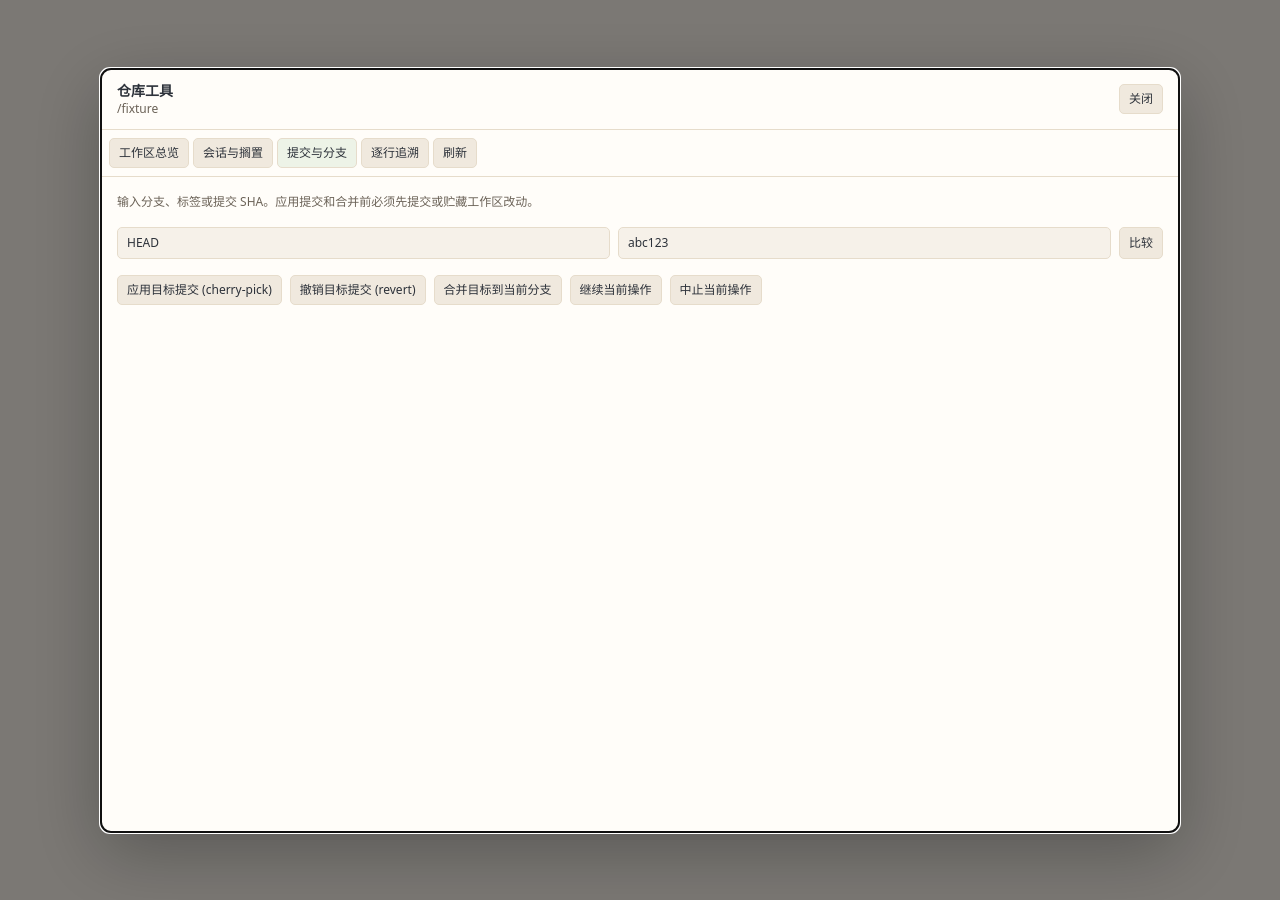
Test: workspace workflows › does not execute history operations on cancel and displays backend errors
The image size is (1280, 900).
Click the button "撤销目标提交 (revert)" at (358, 290), box [290,274,426,304]
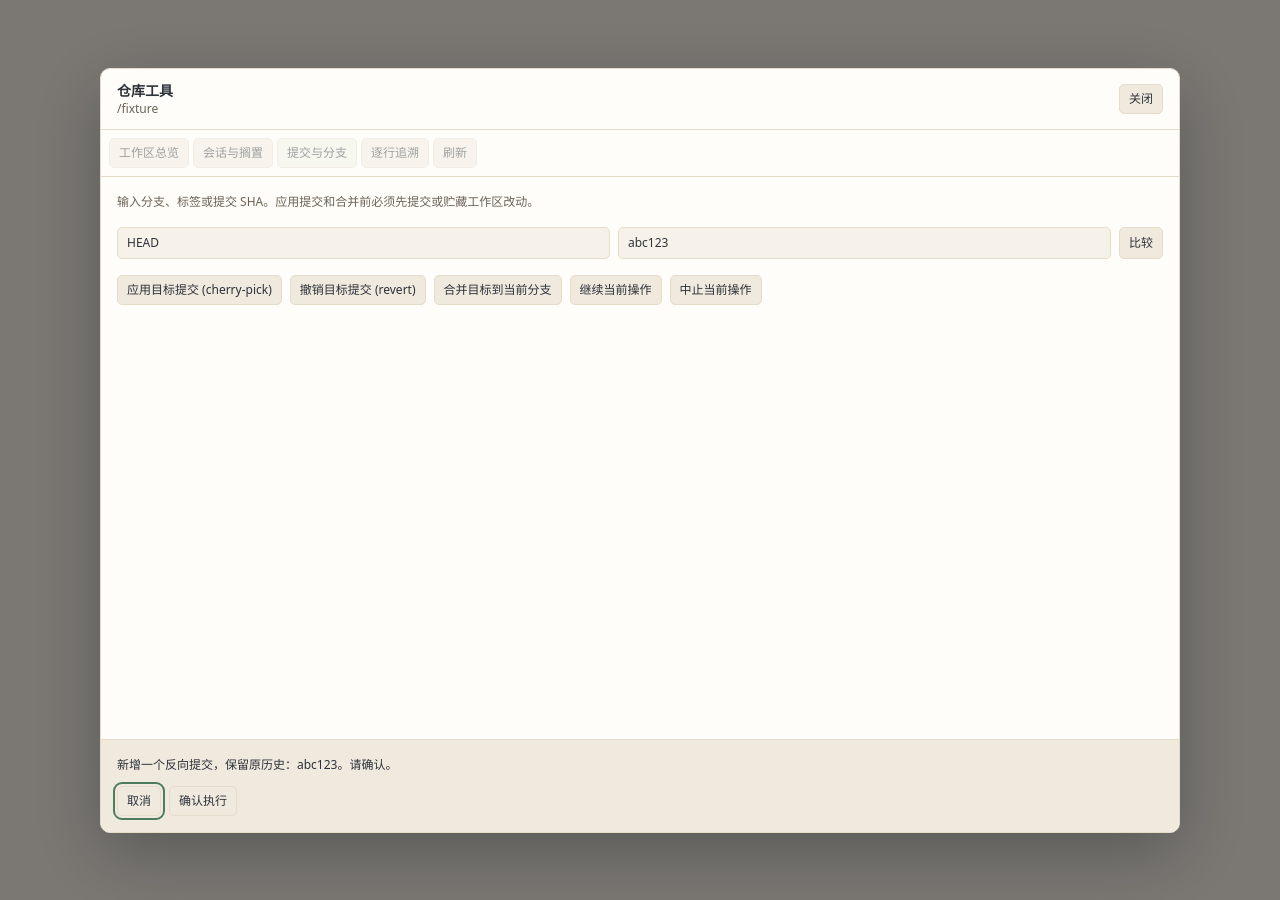
Press Escape in the dialog
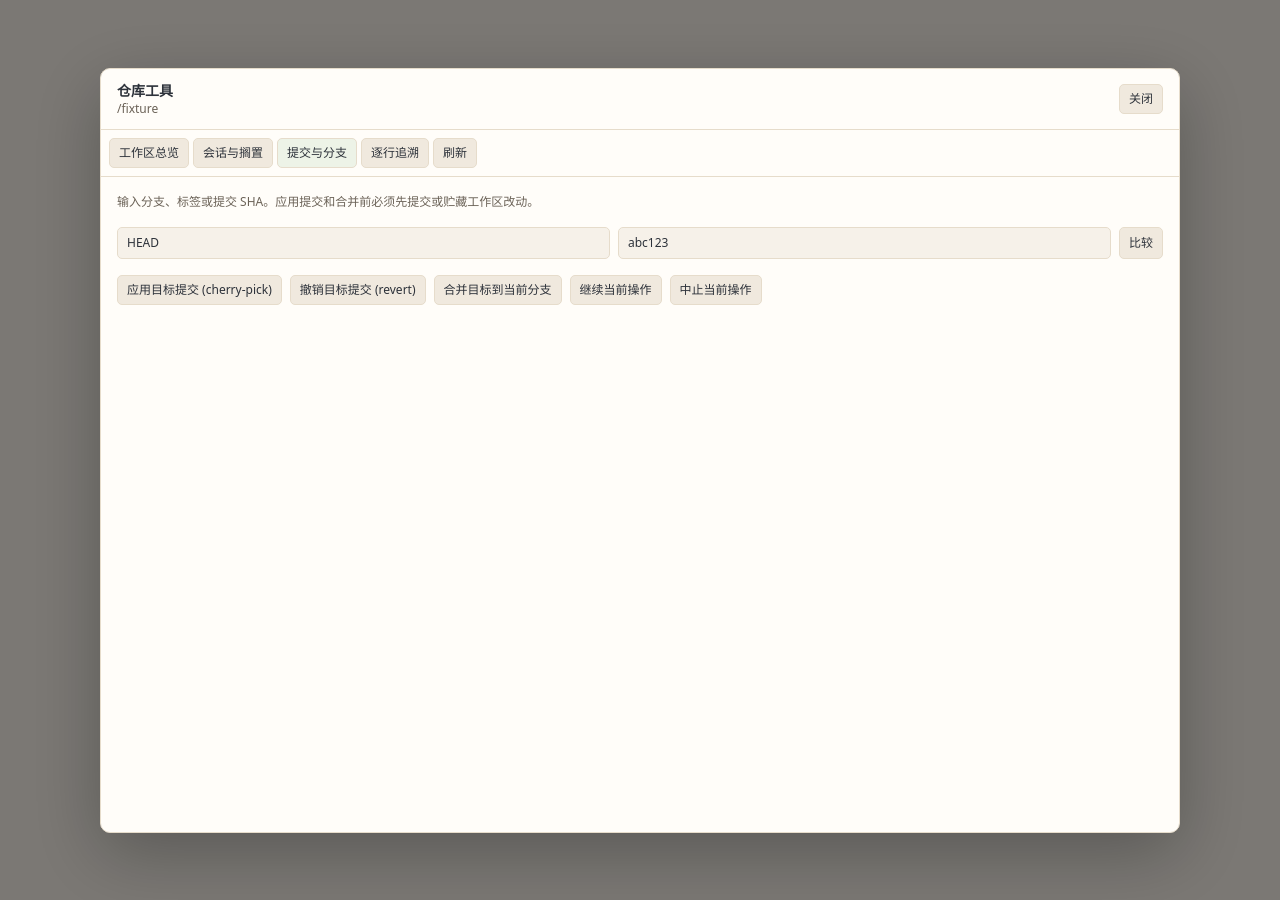
Expected: the dialog "新增一个反向提交，保留原历史：abc123。请确认。 取消 确认执行" is gone
Click the button "撤销目标提交 (revert)" at (358, 290), box [290,274,426,304]
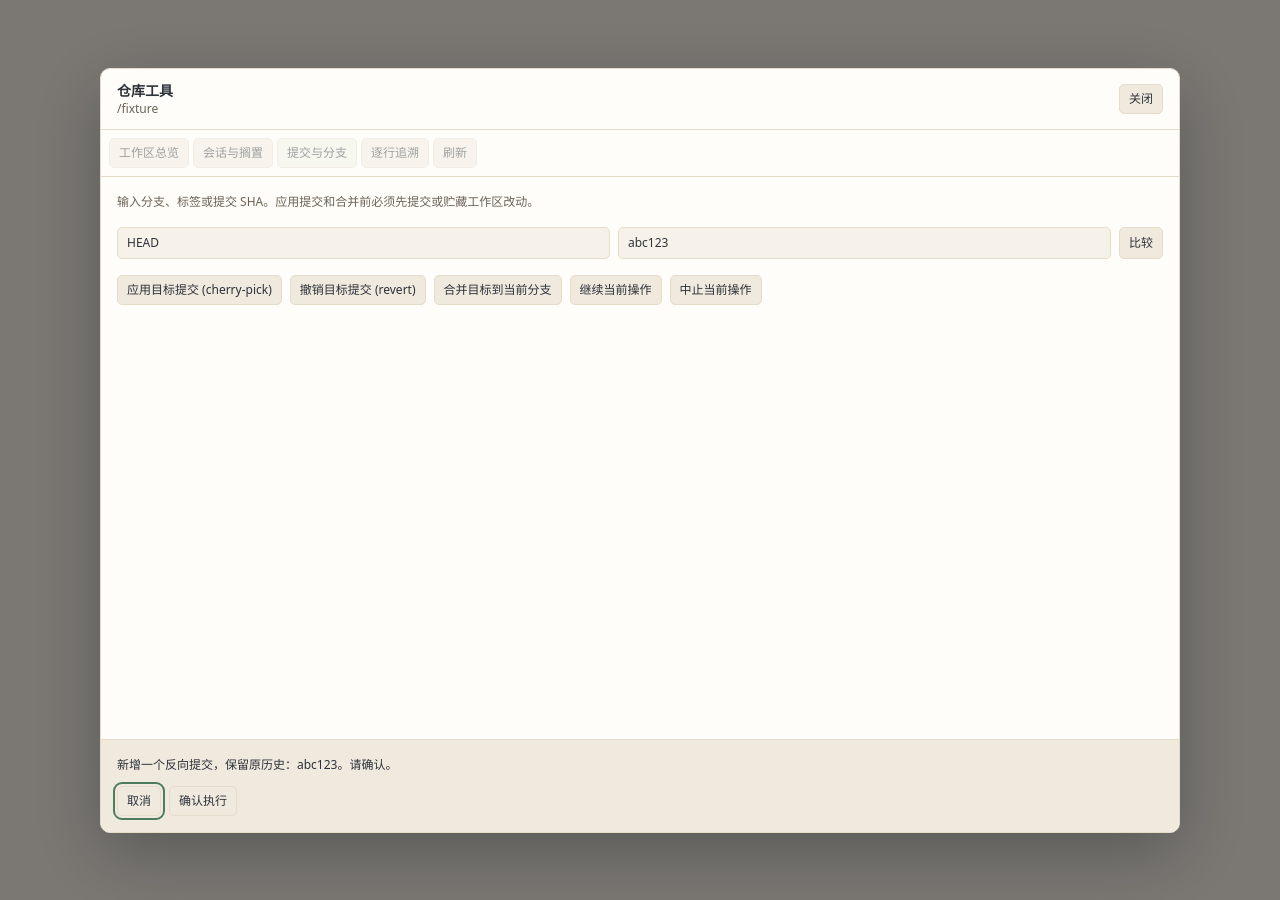
Click the button "确认执行" at (203, 800), box [169,786,237,816]
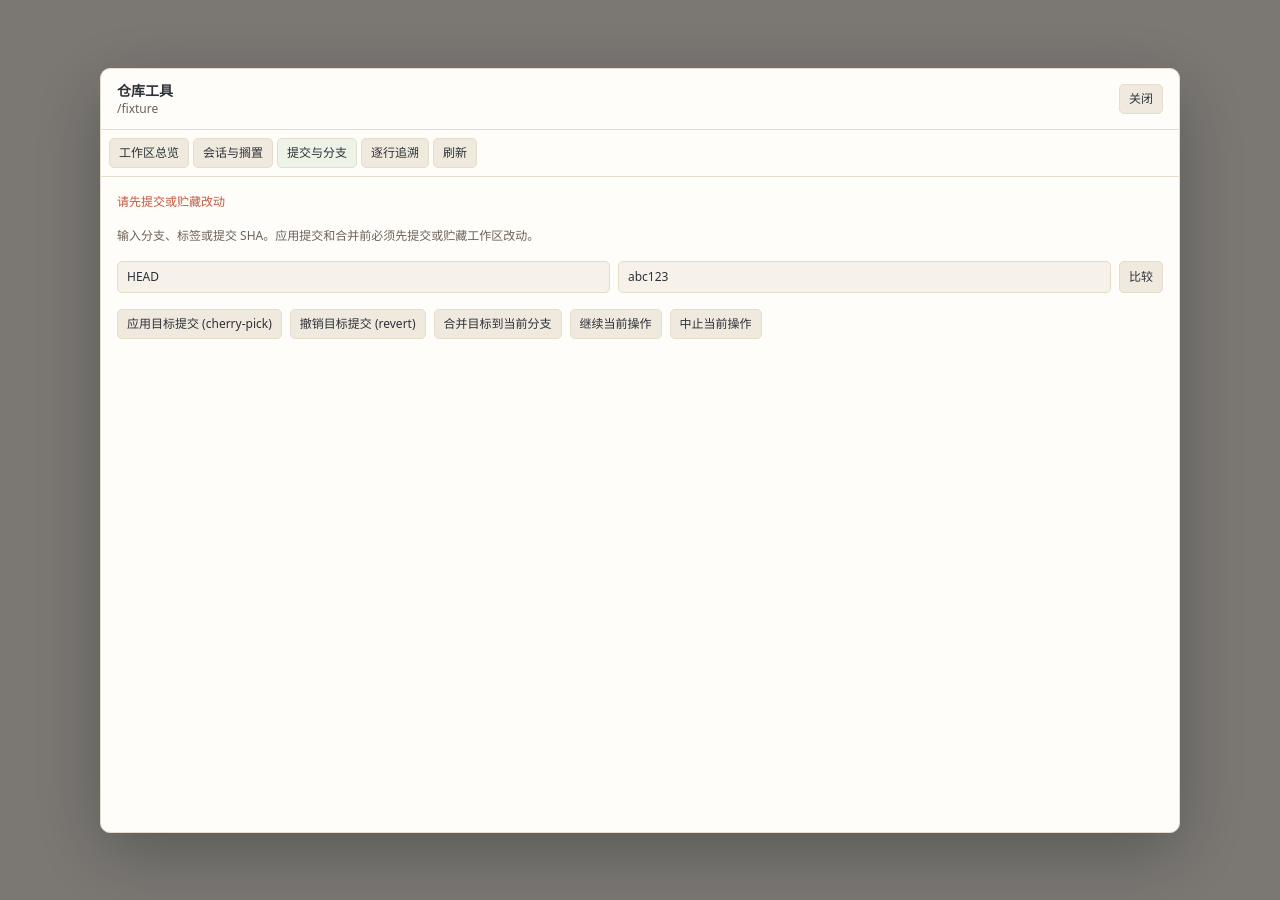
Expected: the message reads "请先提交或贮藏改动", [117,192,225,210]
